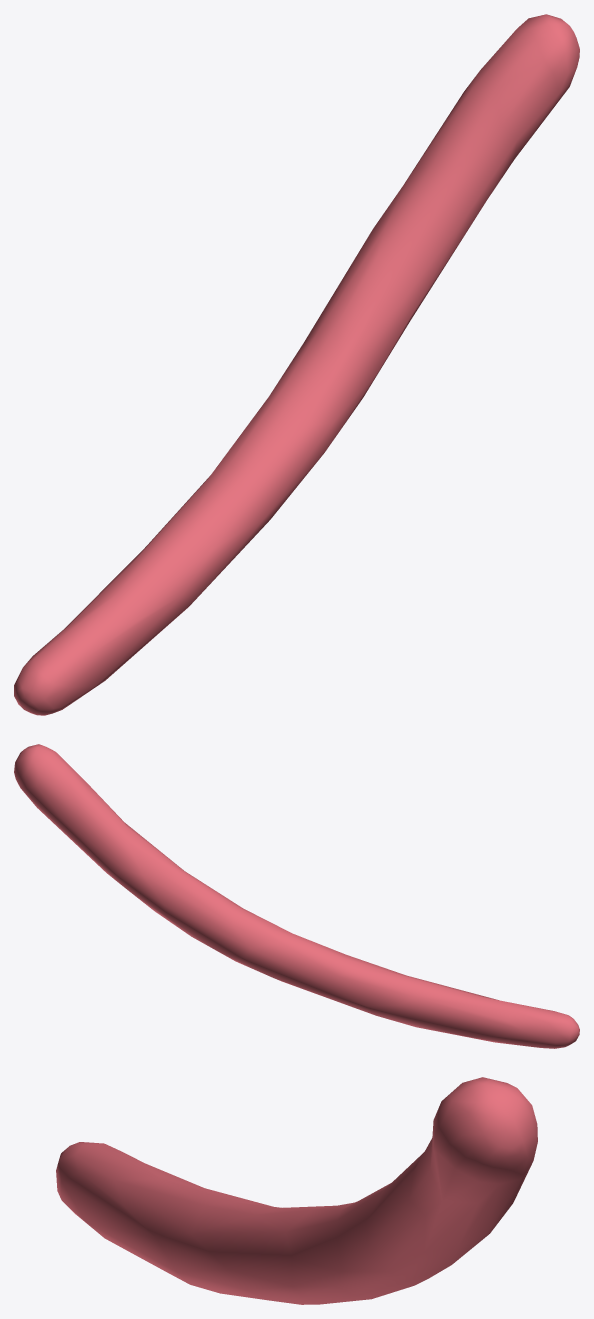
Rendered from fma68945_fj3034.glb.
3 views of the same model, one above another, from view 1: azimuth 30°, elevation 25°; view 2: azimuth 150°, elevation 25°; view 3: azimuth 270°, elevation 25° (orthographic). The views are drawn at different scales.
Parts seen in each view (by area): view 1: FMA68945_FJ3034; view 2: FMA68945_FJ3034; view 3: FMA68945_FJ3034.
Part boxes in pixels (x1=…): FMA68945_FJ3034: x1=14, y1=14, x2=579, y2=715; FMA68945_FJ3034: x1=14, y1=744, x2=579, y2=1048; FMA68945_FJ3034: x1=56, y1=1077, x2=537, y2=1304.
Size of the model in its own units: 0.0549 by 0.0309 by 0.025.
